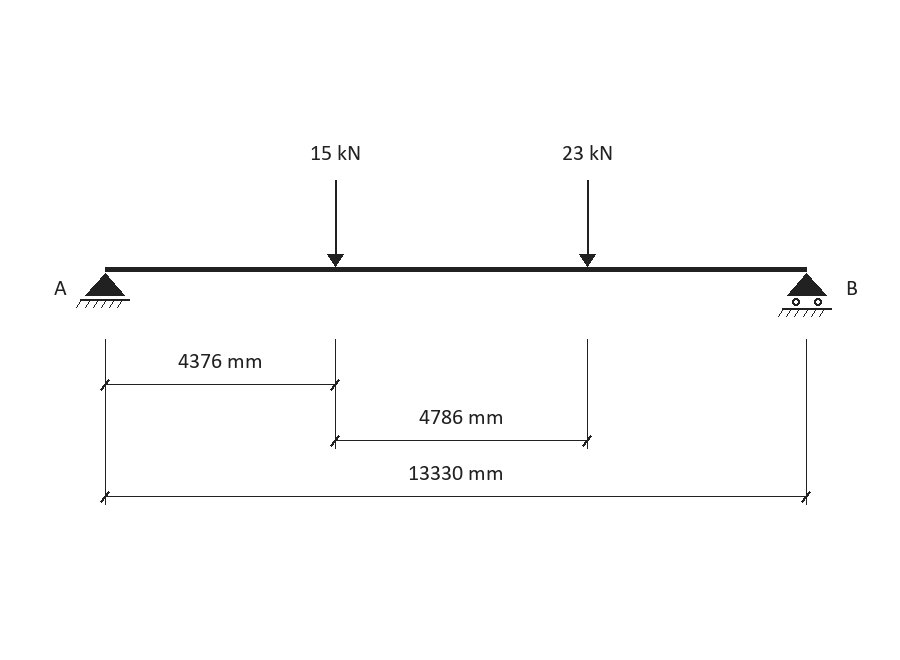pin_support: (76, 273, 130, 308)
point_load: (327, 180, 344, 267), (579, 180, 596, 267)
roller_support: (778, 273, 832, 317)
